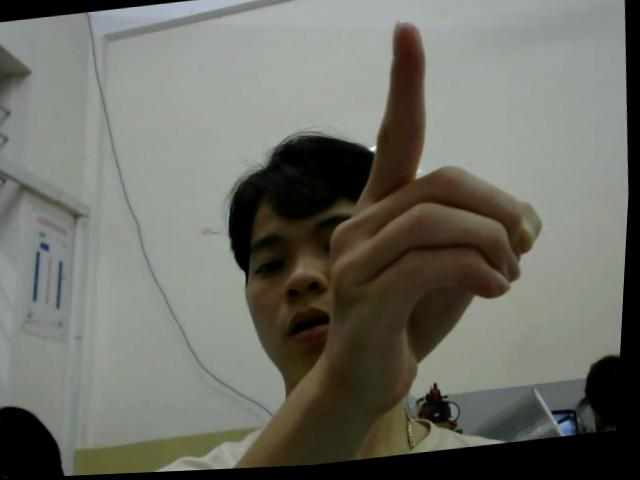D: (308, 4, 567, 424)
